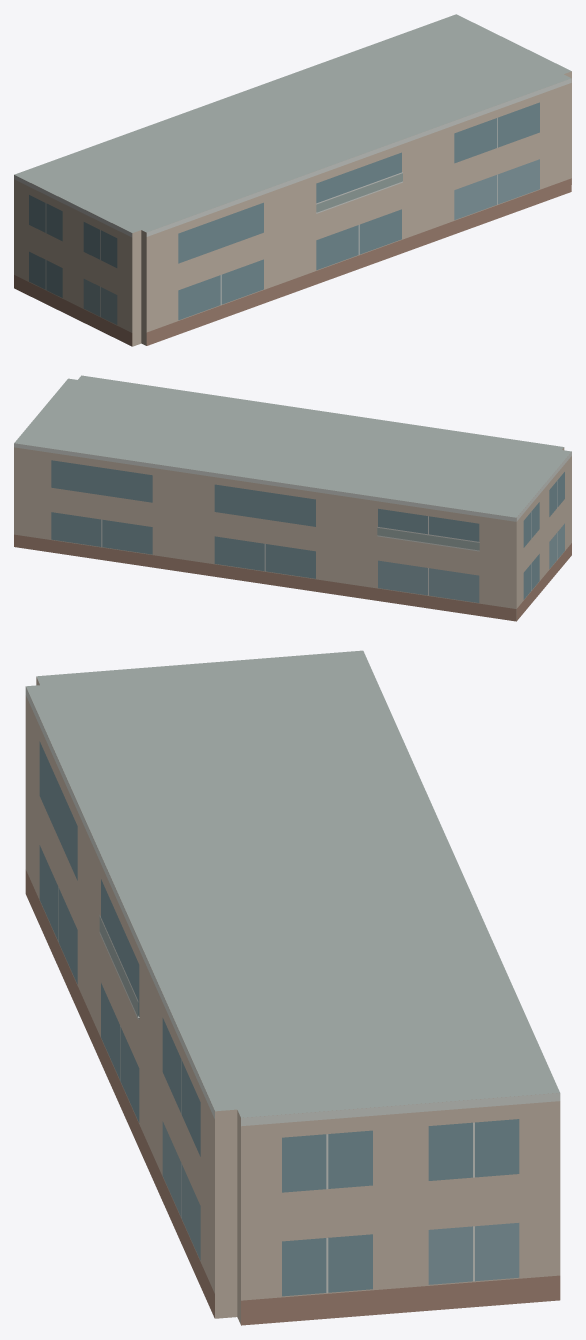
Rendered from survey-upis-32708435.glb.
3 renders of one model, top to bottom at view 1: azimuth 30°, elevation 25°; view 2: azimuth 150°, elevation 25°; view 3: azimuth 270°, elevation 25°, orthographic. The views are drawn at different scales.
Visible parts, largest first — view 1: survey-upis-32708435.tmp; view 2: survey-upis-32708435.tmp; view 3: survey-upis-32708435.tmp.
Part boxes in pixels (bbox=[...]): survey-upis-32708435.tmp: bbox=[14, 14, 571, 346]; survey-upis-32708435.tmp: bbox=[14, 375, 571, 621]; survey-upis-32708435.tmp: bbox=[25, 650, 560, 1325].
Bounding box in the file's own units: 29.48 × 6.1 × 14.25.
